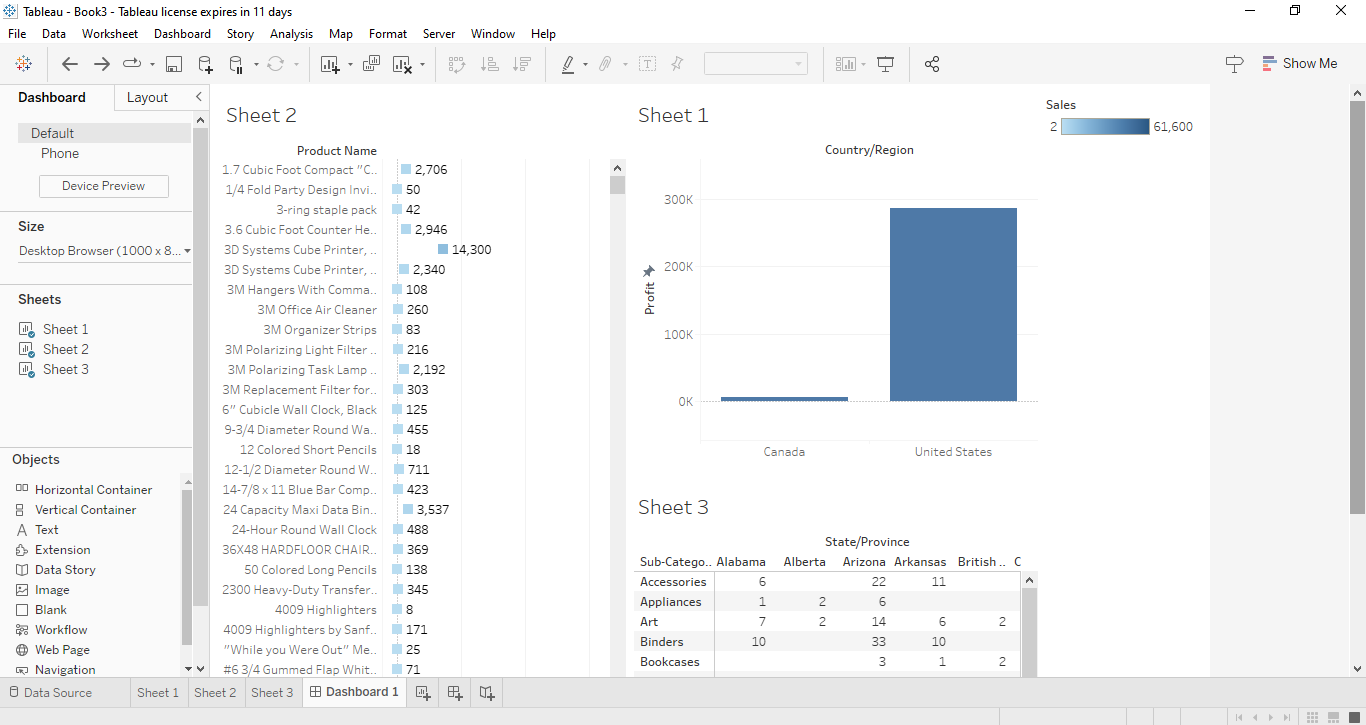

Layout of this report page (visuals, bound fields, positions):
{"tool":"tableau","page":{"name":"Dashboard 1","canvas":[1000,800],"ordinal":0},"visuals":[{"type":"worksheet","title":"Sheet 2","mark":"Square","rows":["Product Name"],"cols":["Sales"],"box":[8,8,412,784]},{"type":"worksheet","title":"Sheet 1","mark":"Automatic","rows":["Profit"],"cols":["Country/Region"],"box":[420,8,412,392]},{"type":"legend","title":"Sheet 2","param":"[federated.1o2ps9c1c4gvcr1fqzg3i17srmv5].[sum:Sales:qk]","box":[832,8,160,65]},{"type":"worksheet","title":"Sheet 3","mark":"Automatic","rows":["Sub-Category"],"cols":["State/Province"],"box":[420,400,412,392]}]}

Visuals, with their boxes on the page's 1000x800 design canvas (x1, y1, x2, y2). These are canvas units, not pixel positions in the 1366x725 screenshot, which may show the page scaled, cropped or inside an application window:
"Sheet 2" worksheet (Square marks): crop(8, 8, 420, 792)
"Sheet 1" worksheet: crop(420, 8, 832, 400)
"Sheet 2" legend: crop(832, 8, 992, 73)
"Sheet 3" worksheet: crop(420, 400, 832, 792)
